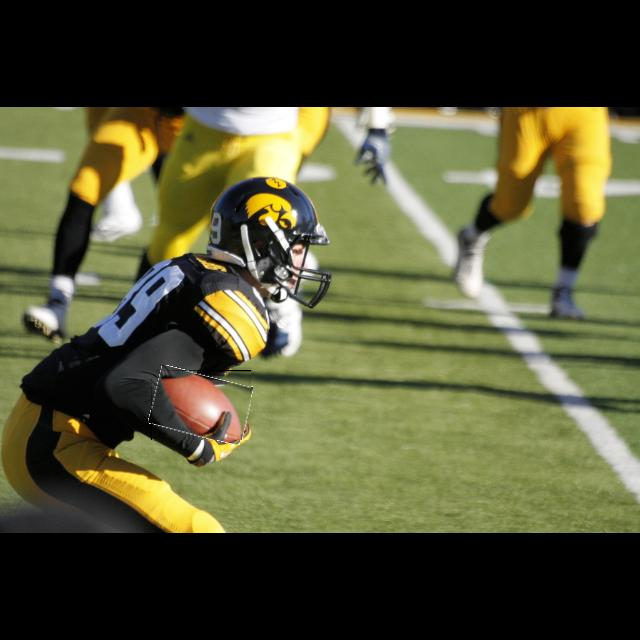Football: (151, 370, 251, 440)
